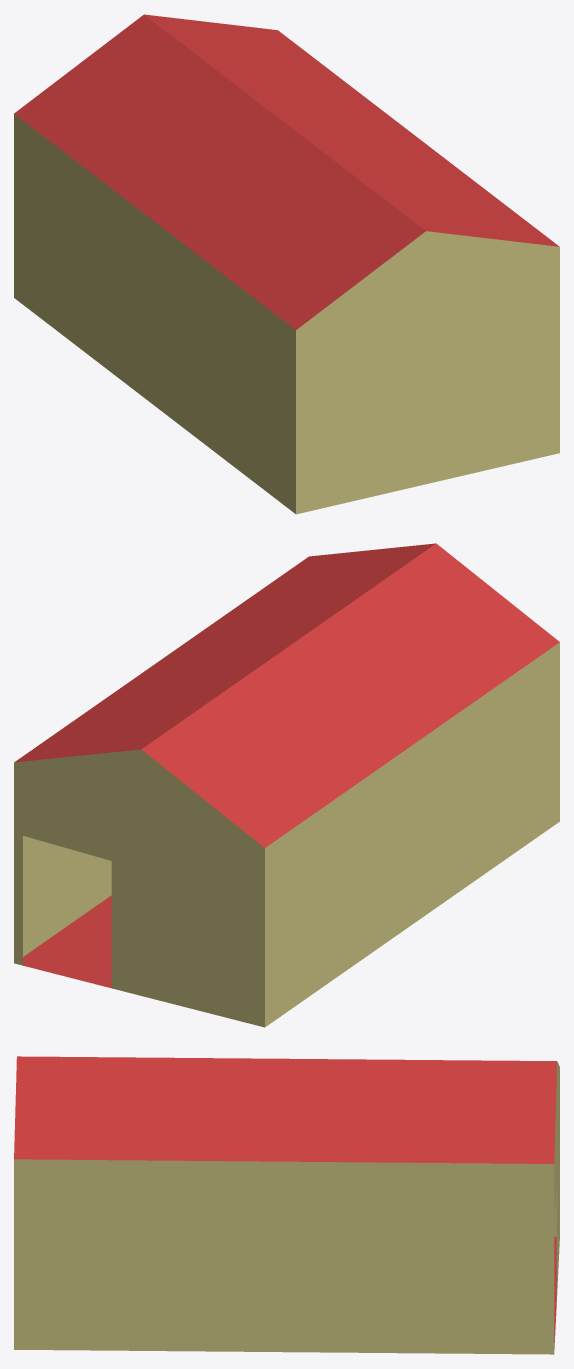
The picture shows the model from 3 angles, top to bottom: view 1: azimuth 30°, elevation 25°; view 2: azimuth 150°, elevation 25°; view 3: azimuth 270°, elevation 25°; orthographic projection. The views are drawn at different scales.
Size of the model in its own units: 15.37 by 29.01 by 13.71.
